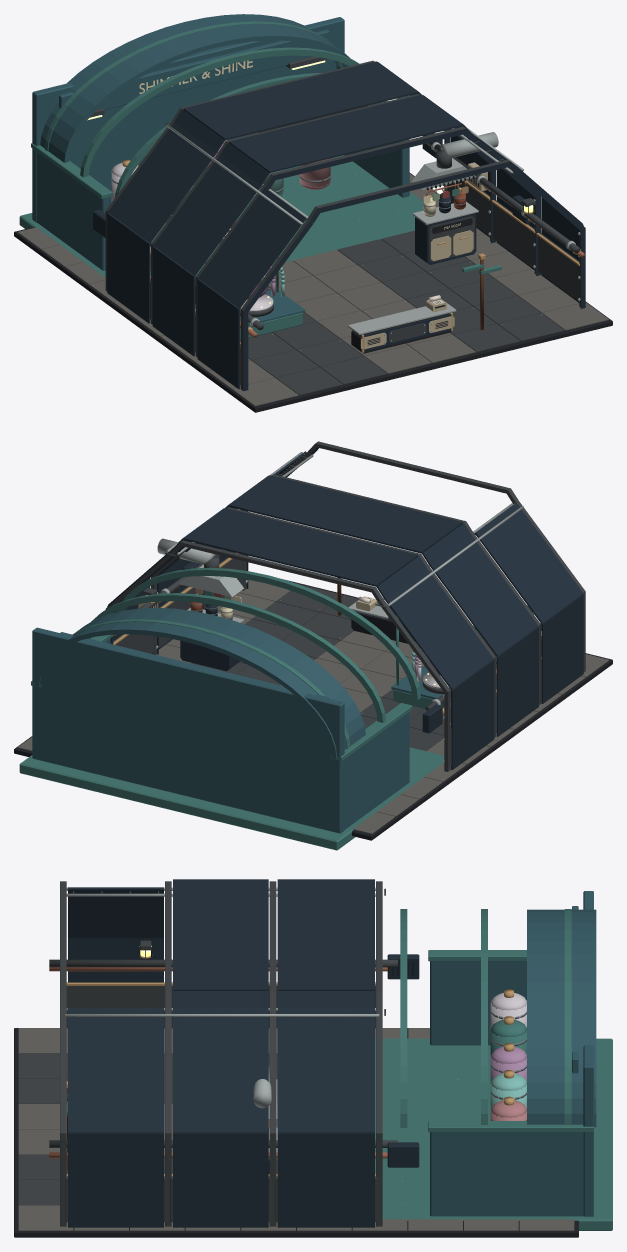
The model's file is jovexa-livery.glb.
3 renders of one model, top to bottom at view 1: azimuth 30°, elevation 25°; view 2: azimuth 150°, elevation 25°; view 3: azimuth 270°, elevation 25°, orthographic. The views are drawn at different scales.
Parts seen in each view (by area): view 1: jovexa-livery; view 2: jovexa-livery; view 3: jovexa-livery.
Part boxes in pixels (box(x1,y1,x2,y2)): jovexa-livery: box(14, 14, 612, 412); jovexa-livery: box(14, 441, 612, 850); jovexa-livery: box(14, 879, 612, 1237).
Bounding box in the file's own units: 17.08 × 8.03 × 21.15.
Materials: 27 (23 with a texture image).
